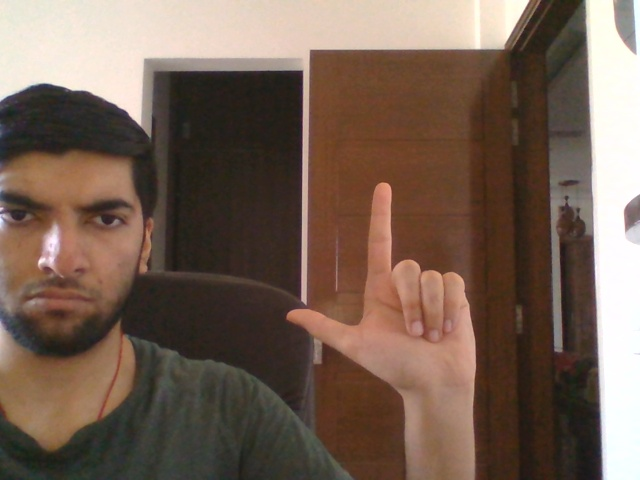LetterL: (285, 180, 478, 401)
